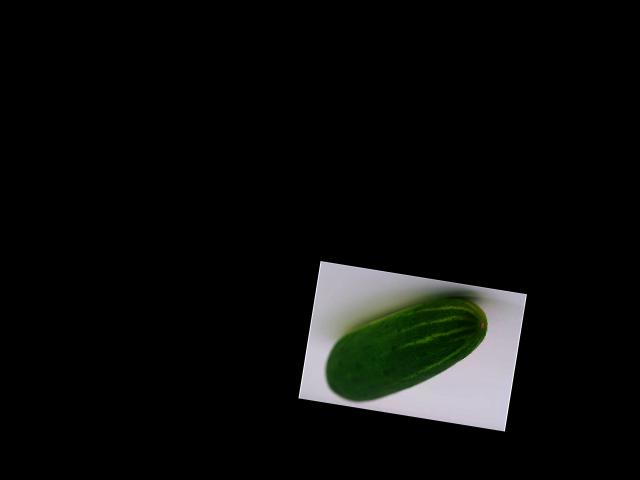cucumber: (321, 278, 490, 419)
